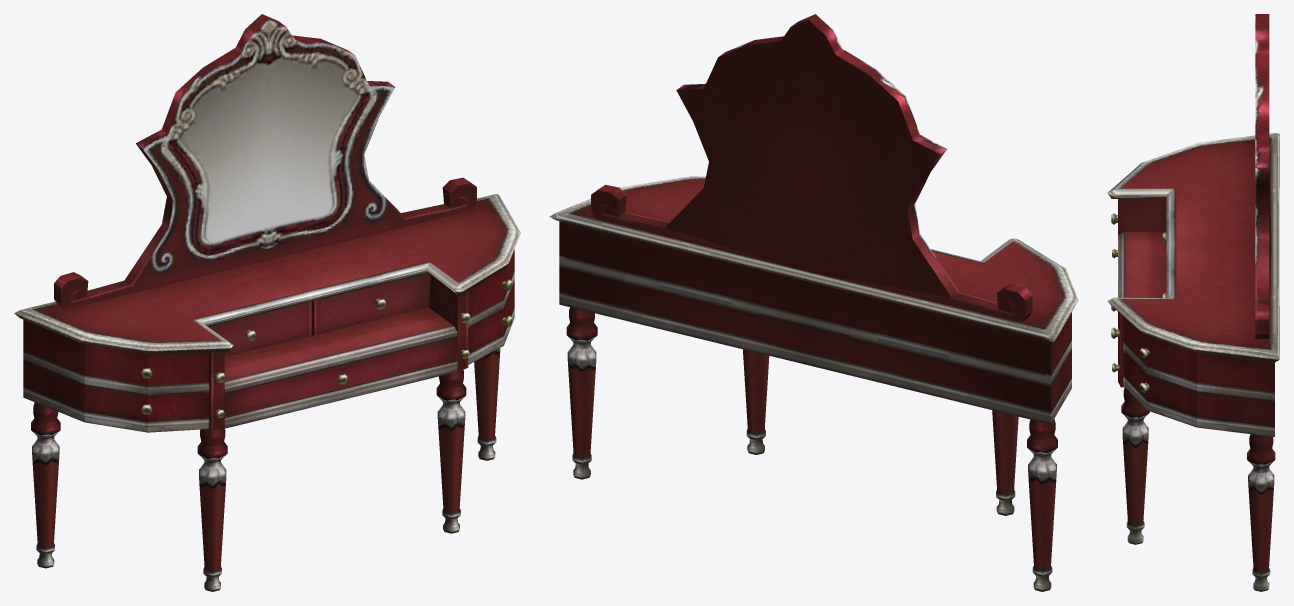
File: furni_0201117_02.FBX
3 views of the same model, side by side, from view 1: azimuth 30°, elevation 25°; view 2: azimuth 150°, elevation 25°; view 3: azimuth 270°, elevation 25° (orthographic). The views are drawn at different scales.
Visible parts, largest first — view 1: furni_0201117_02; view 2: furni_0201117_02; view 3: furni_0201117_02.
Boxes of the visible parts, left/top/right/bottom form: furni_0201117_02: left=14, top=14, right=520, bottom=591; furni_0201117_02: left=549, top=14, right=1078, bottom=591; furni_0201117_02: left=1107, top=14, right=1279, bottom=591.
Bounding box in the file's own units: 158 × 154 × 50.83.
Materials: 1 (1 with a texture image).
